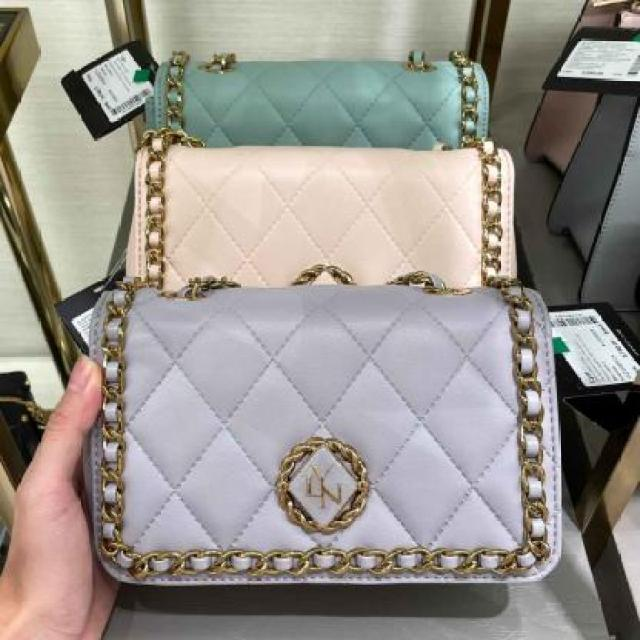Bag: (82, 260, 582, 605)
